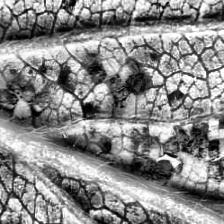Angular Leafspot: (0, 0, 224, 202)
